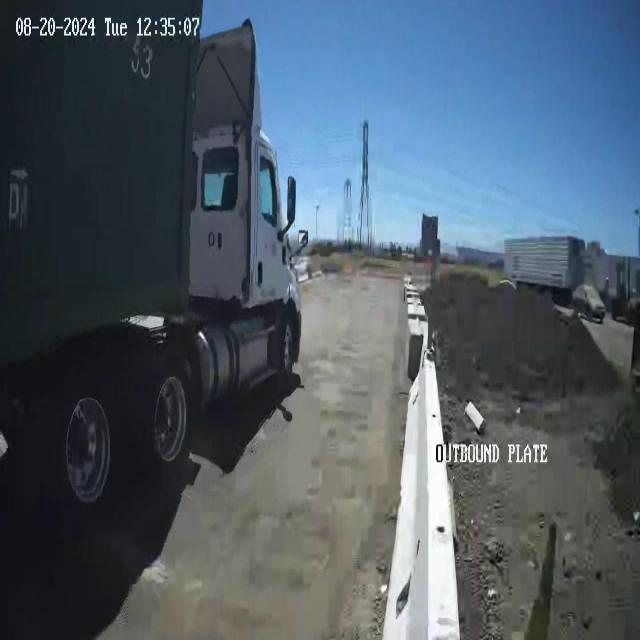TRUCK_CONTAINER: (1, 4, 308, 522)
